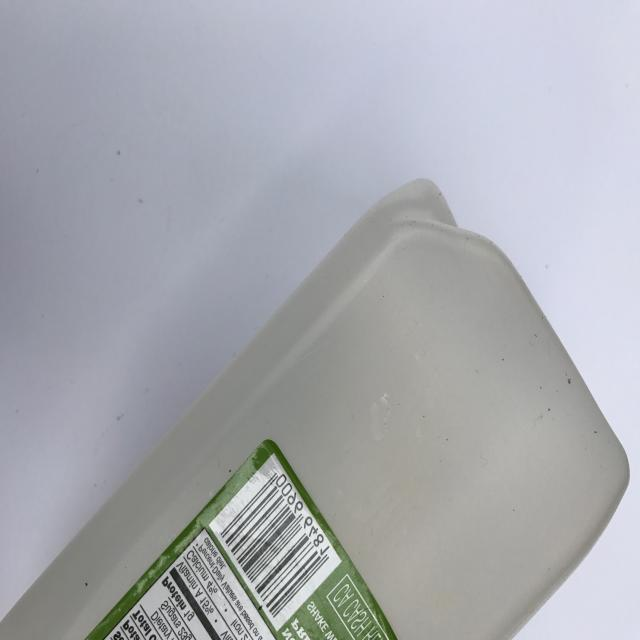plastic: (1, 175, 631, 640)
